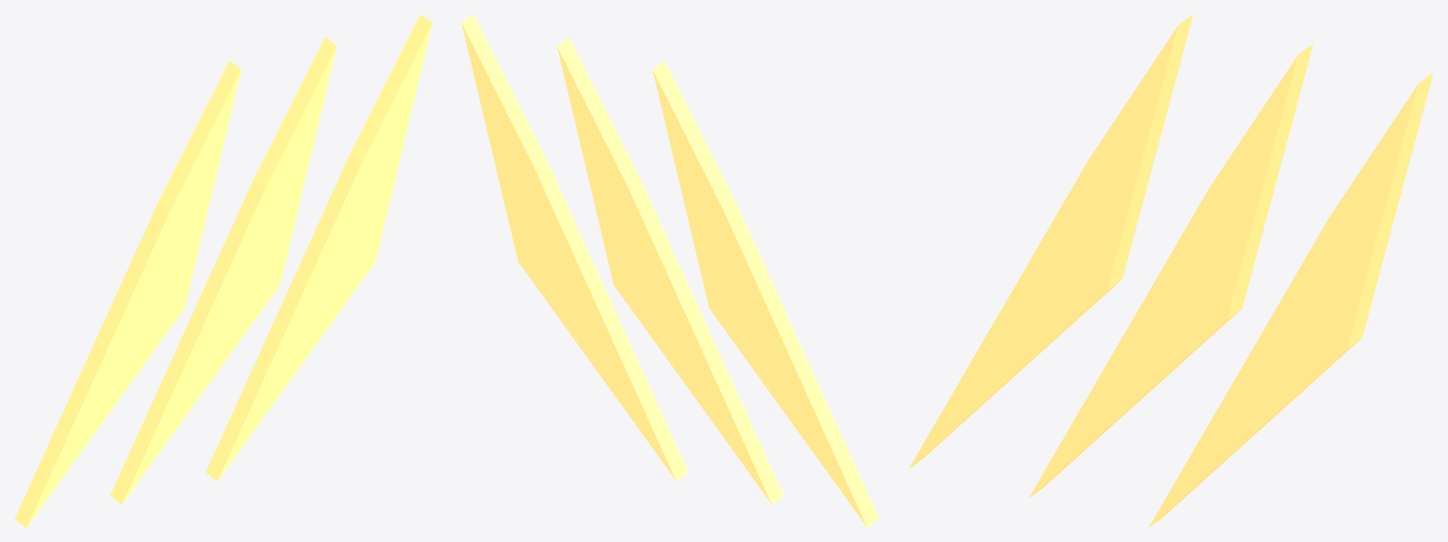
The model's file is demonclaw.glb.
The picture shows the model from 3 angles, left to right: view 1: azimuth 30°, elevation 25°; view 2: azimuth 150°, elevation 25°; view 3: azimuth 330°, elevation 25°; orthographic projection. The views are drawn at different scales.
Visible parts, largest first — view 1: Demon Claw dimensional effect.001; view 2: Demon Claw dimensional effect.001; view 3: Demon Claw dimensional effect.001.
Boxes of the visible parts, x1=… form: Demon Claw dimensional effect.001: x1=14, y1=14, x2=432, y2=527; Demon Claw dimensional effect.001: x1=461, y1=14, x2=879, y2=527; Demon Claw dimensional effect.001: x1=909, y1=14, x2=1433, y2=527.
Bounding box in the file's own units: 1.36 × 1.3 × 0.07.
